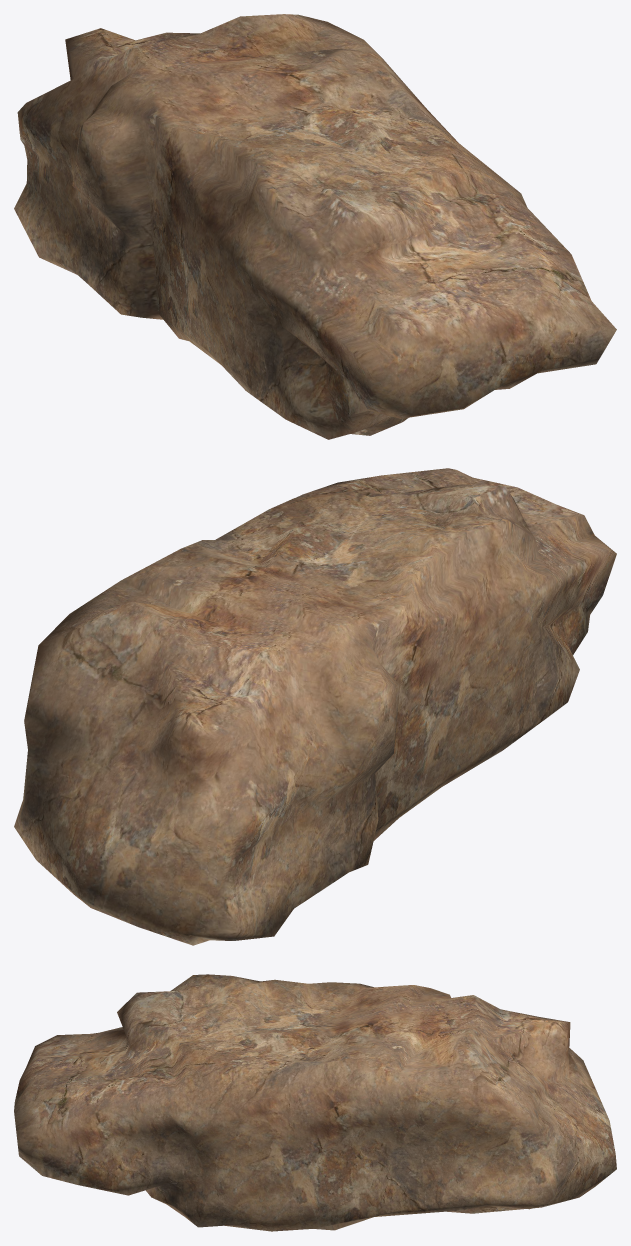
Rendered from rock_1x2_1.glb.
The picture shows the model from 3 angles, top to bottom: view 1: azimuth 30°, elevation 25°; view 2: azimuth 150°, elevation 25°; view 3: azimuth 270°, elevation 25°; orthographic projection. The views are drawn at different scales.
Parts seen in each view (by area): view 1: Rock_9; view 2: Rock_9; view 3: Rock_9.
Part boxes in pixels (left/top/right/bottom): Rock_9: left=14, top=14, right=616, bottom=439; Rock_9: left=14, top=468, right=616, bottom=945; Rock_9: left=14, top=974, right=616, bottom=1231.
Bounding box in the file's own units: 2.6 × 2.05 × 6.13.
Materials: 1 (1 with a texture image).
